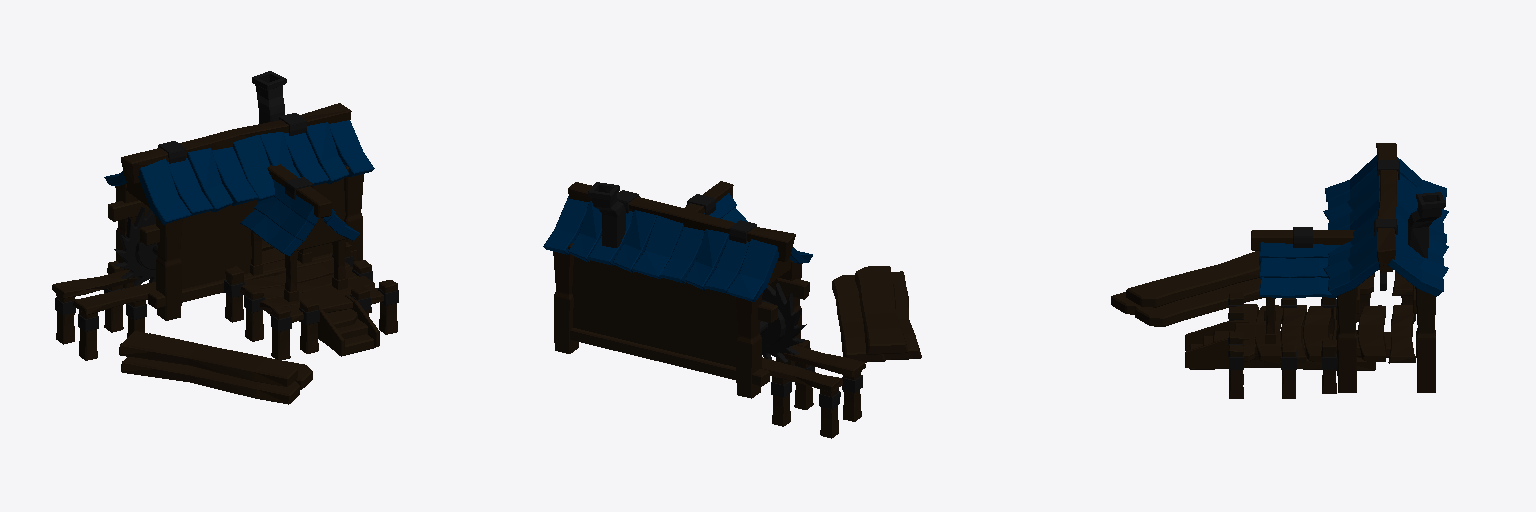
Rendered from SM_sawmill.obj.
3 views of the same model, side by side, from view 1: azimuth 30°, elevation 25°; view 2: azimuth 150°, elevation 25°; view 3: azimuth 270°, elevation 25° (orthographic).
Parts seen in each view (by area): view 1: sawmill_metal; view 2: sawmill_metal; view 3: sawmill_metal.
Part boxes in pixels (x1,y1,x2,y2): sawmill_metal: (52,71,398,404); sawmill_metal: (543,181,921,438); sawmill_metal: (1111,143,1448,398).
Size of the model in its own units: 8.05 by 5.39 by 8.15.